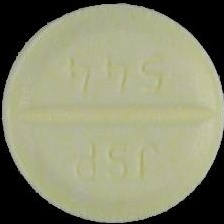51655-001: (0, 0, 224, 224)
